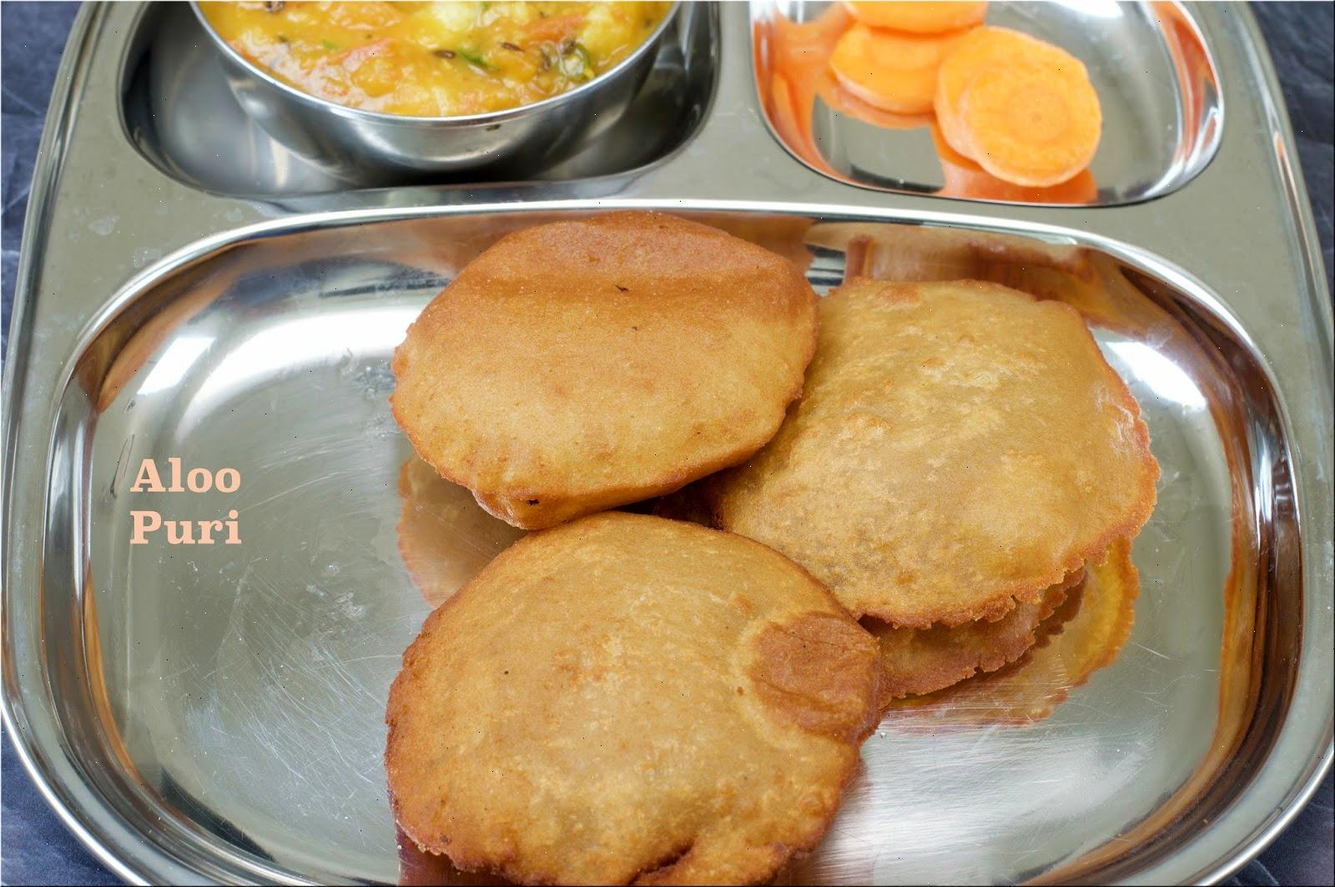puri: (403, 217, 1066, 887)
